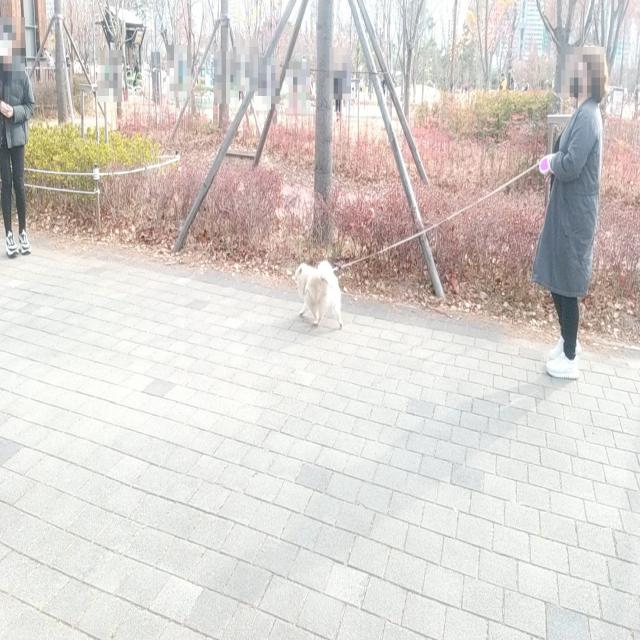Leashed_Dog: (293, 153, 578, 330)
